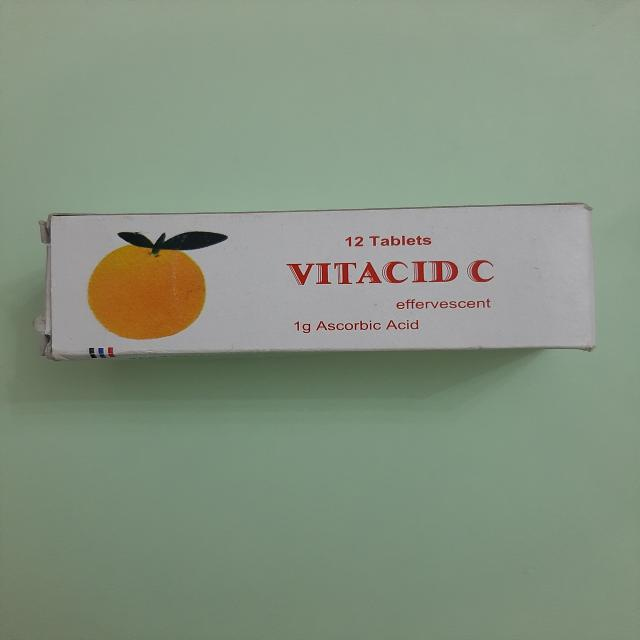Medicine Name: (272, 252, 516, 296)
